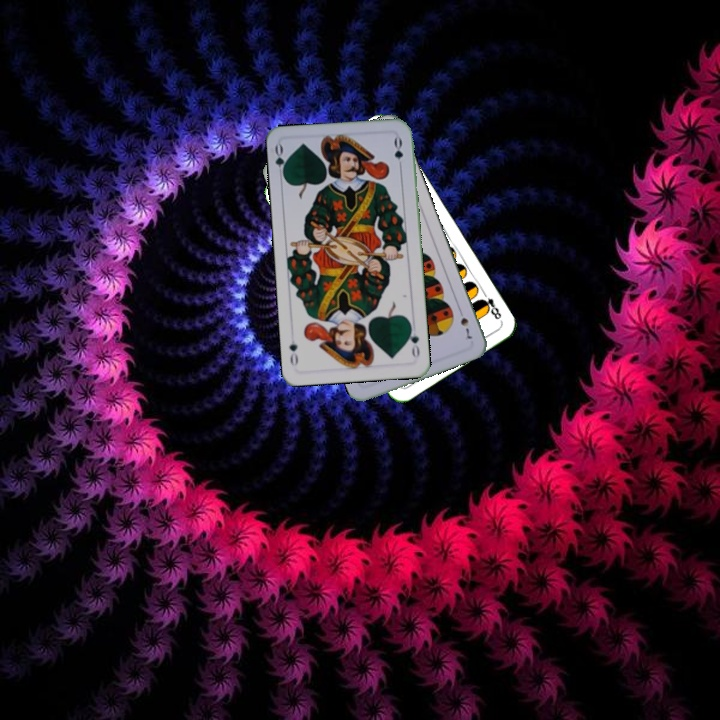E8: (476, 287, 504, 324)
GO: (271, 141, 290, 182), (404, 321, 422, 359)
S7: (454, 304, 475, 344)
